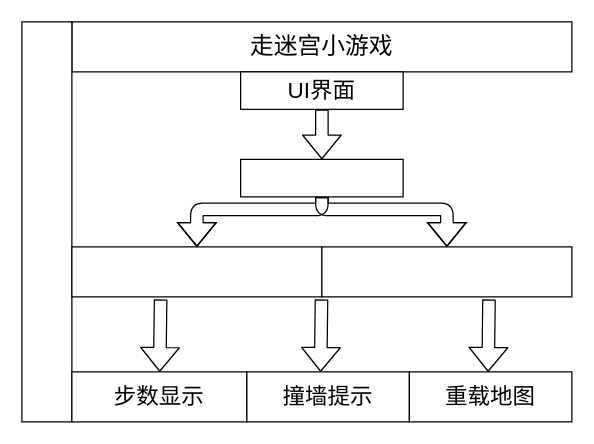
This 594x444 diagram has some shape labels left out. The shapes that lost their labels are listed below. From the top down, each one's box as (x1, y1, x2, y2) in pixels, then its label:
(239, 158, 403, 197): 迷宫生成
(71, 246, 322, 297): 自动寻路
(321, 246, 572, 297): 自走迷宫
